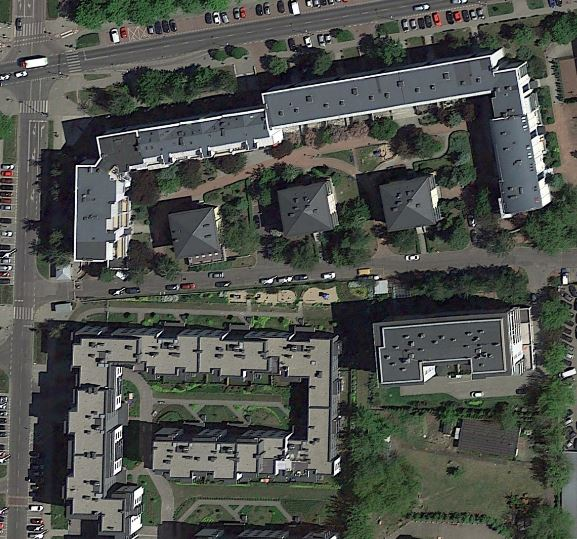block of flats: (70, 43, 557, 265), (60, 323, 351, 536), (370, 297, 538, 392), (381, 169, 445, 235), (278, 176, 340, 238), (167, 204, 231, 263)
